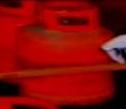cylinder: (1, 0, 126, 109)
